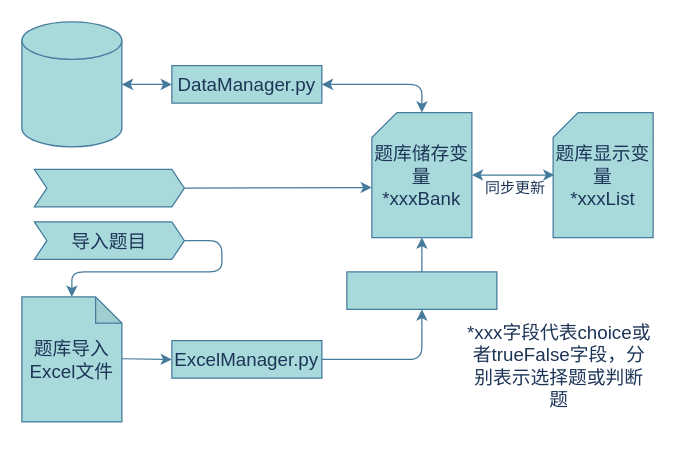
Image size: 675x466. Some labels were removed from this diagram. Each missing label, with the centre of its shape:
"mistakeFilter" goes at (x=421, y=290).
"删除题目" goes at (x=108, y=187).
"数据库" goes at (x=71, y=84).
